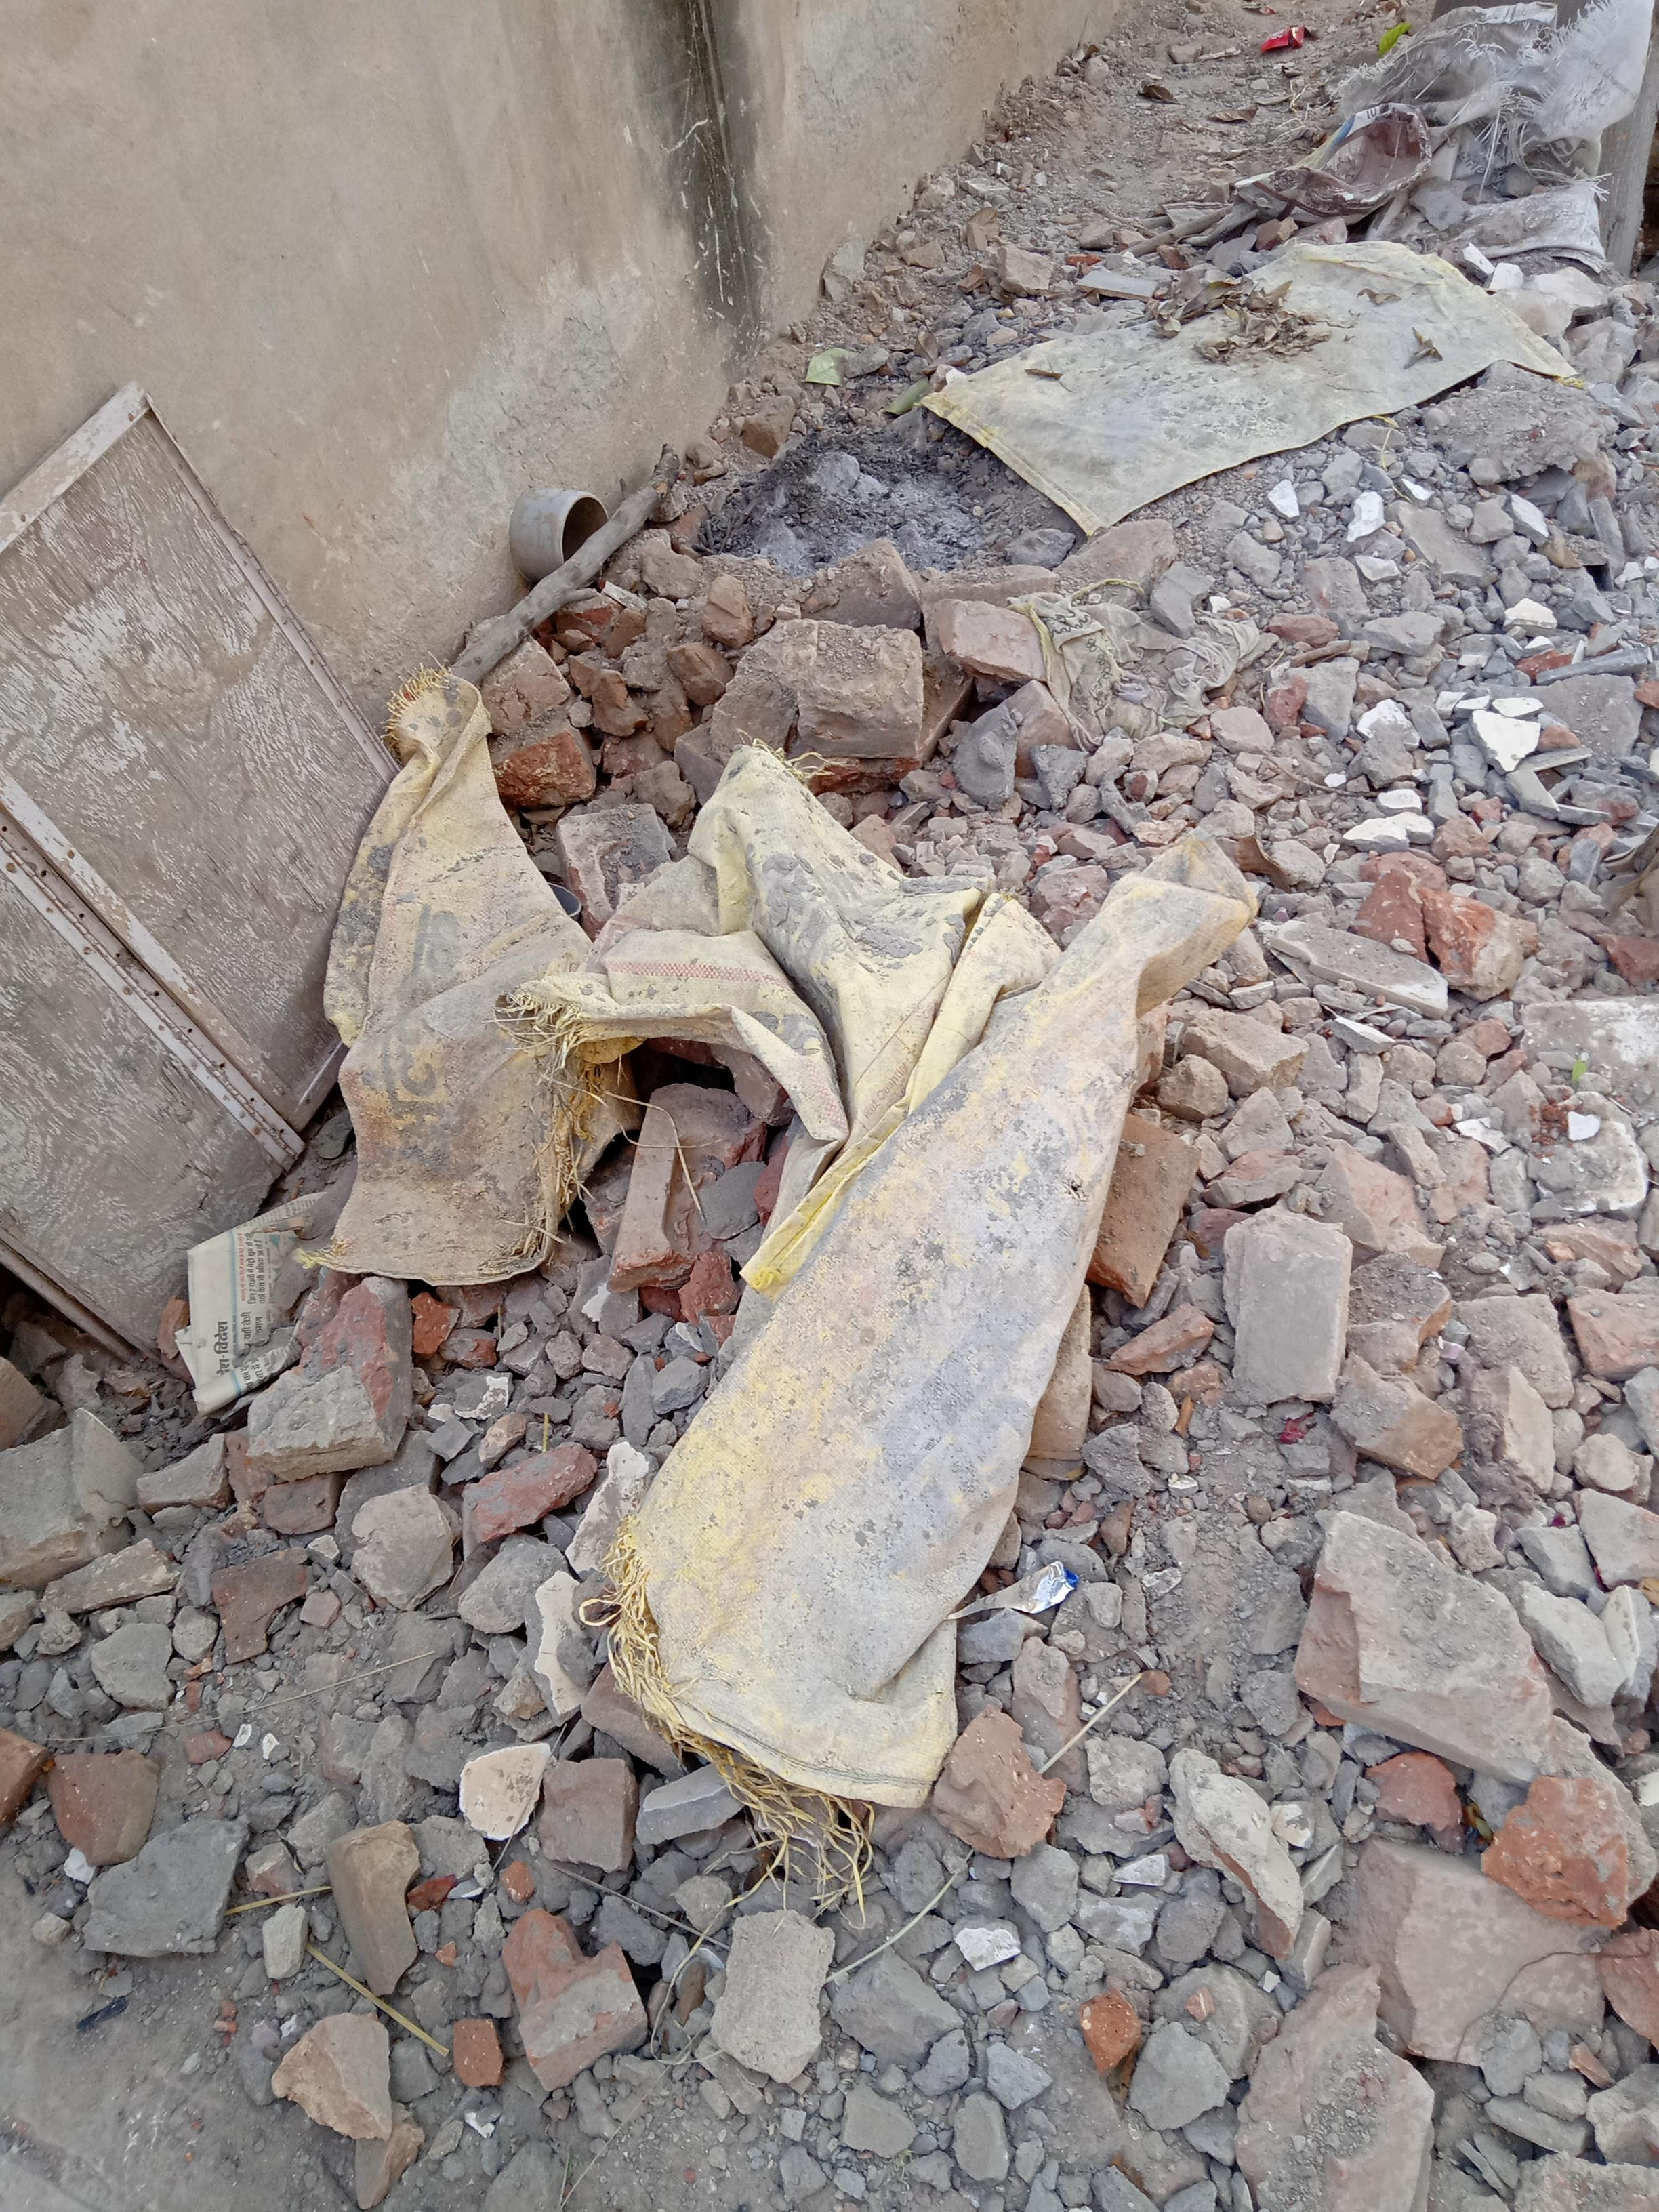trash: (171, 211, 1582, 1824)
